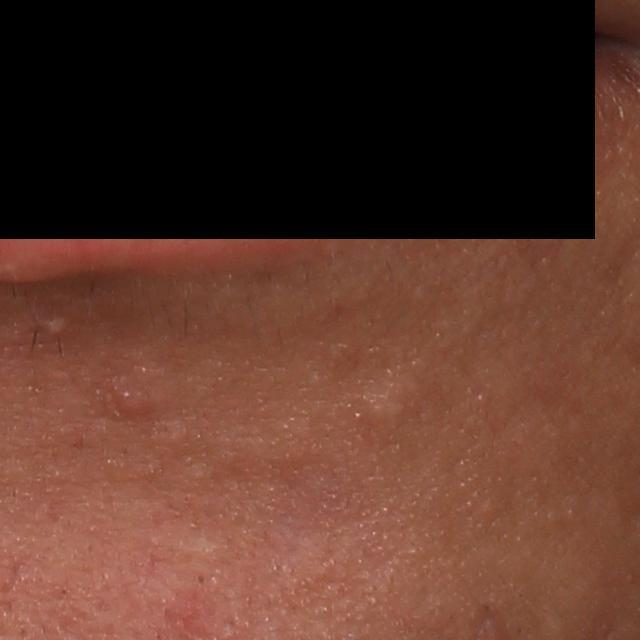hypertrophic_scar: (338, 367, 428, 446), (171, 538, 231, 565)
papule: (116, 385, 153, 416)
